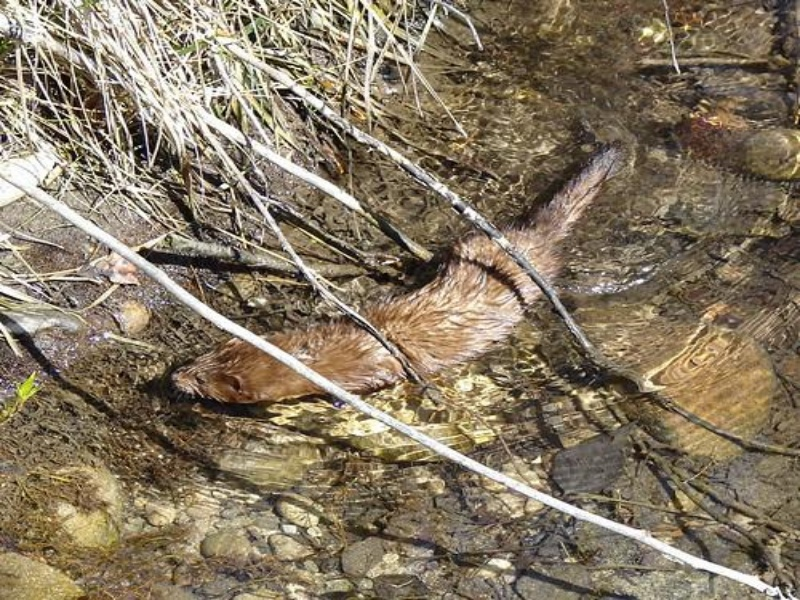minkish: (169, 139, 623, 407)
